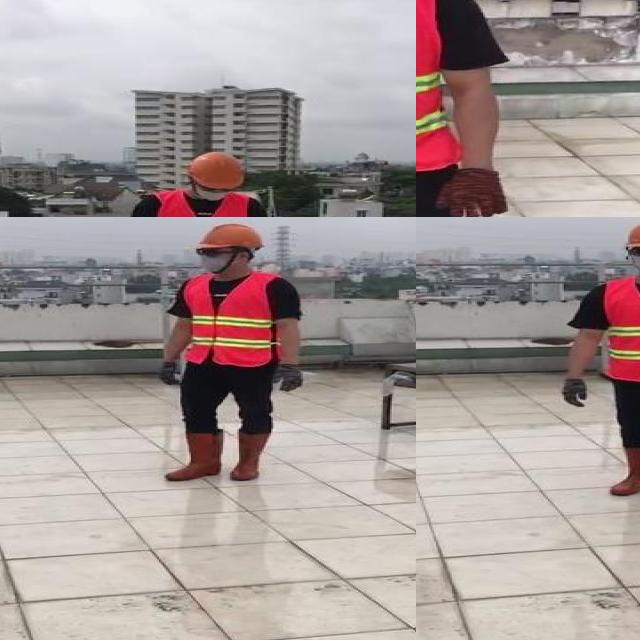boots: (166, 432, 223, 480), (228, 432, 271, 481), (606, 446, 640, 498)
face_mask: (194, 245, 245, 272), (191, 180, 237, 203), (629, 245, 640, 274)
glasses: (193, 243, 234, 260), (627, 246, 640, 259)
hand_glove: (437, 169, 508, 217), (560, 378, 589, 408), (271, 365, 303, 391), (159, 360, 182, 387)
head_helmet: (416, 0, 521, 217), (186, 150, 248, 190), (198, 222, 264, 250), (620, 217, 640, 249)
person: (142, 221, 316, 486), (548, 217, 640, 531), (112, 149, 292, 217)
vest: (182, 272, 278, 364), (599, 275, 640, 381), (151, 194, 249, 217)
